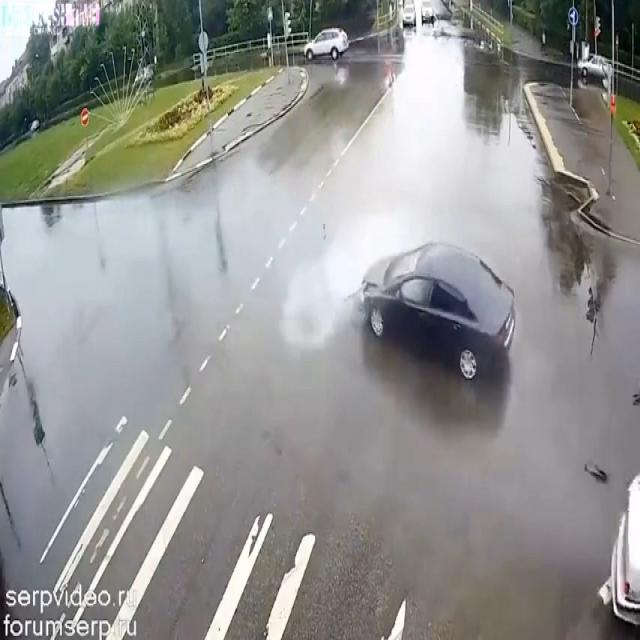Accident: (346, 197, 640, 640)
